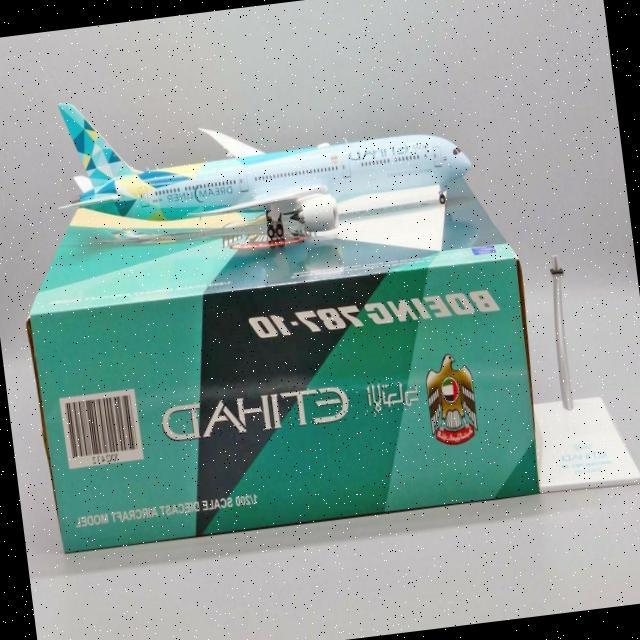Etihad Airways: (159, 375, 421, 443), (348, 141, 430, 162)
